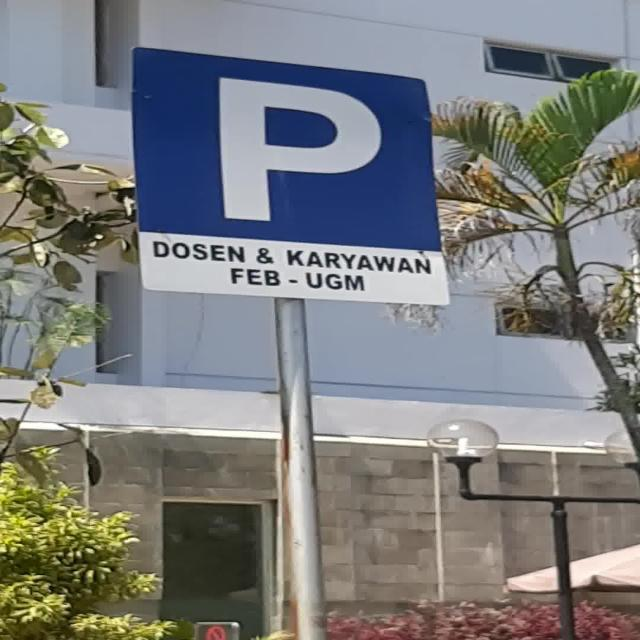Tempat Parkir: (132, 46, 454, 305)
